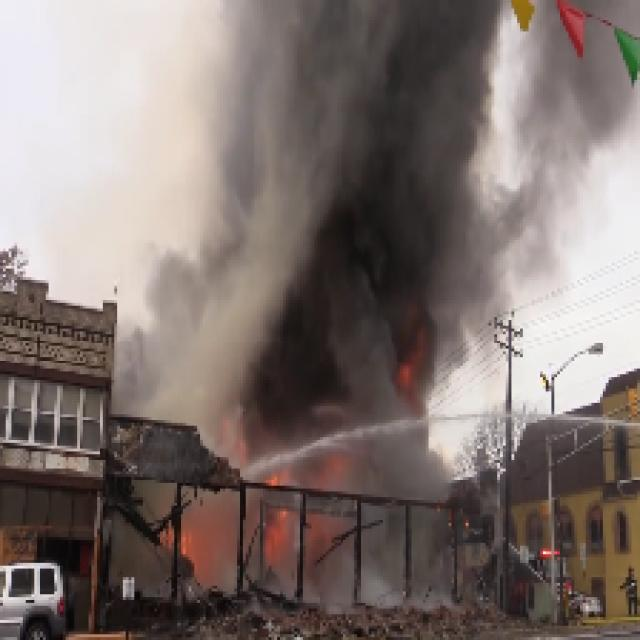Smoke: (134, 1, 513, 337)
